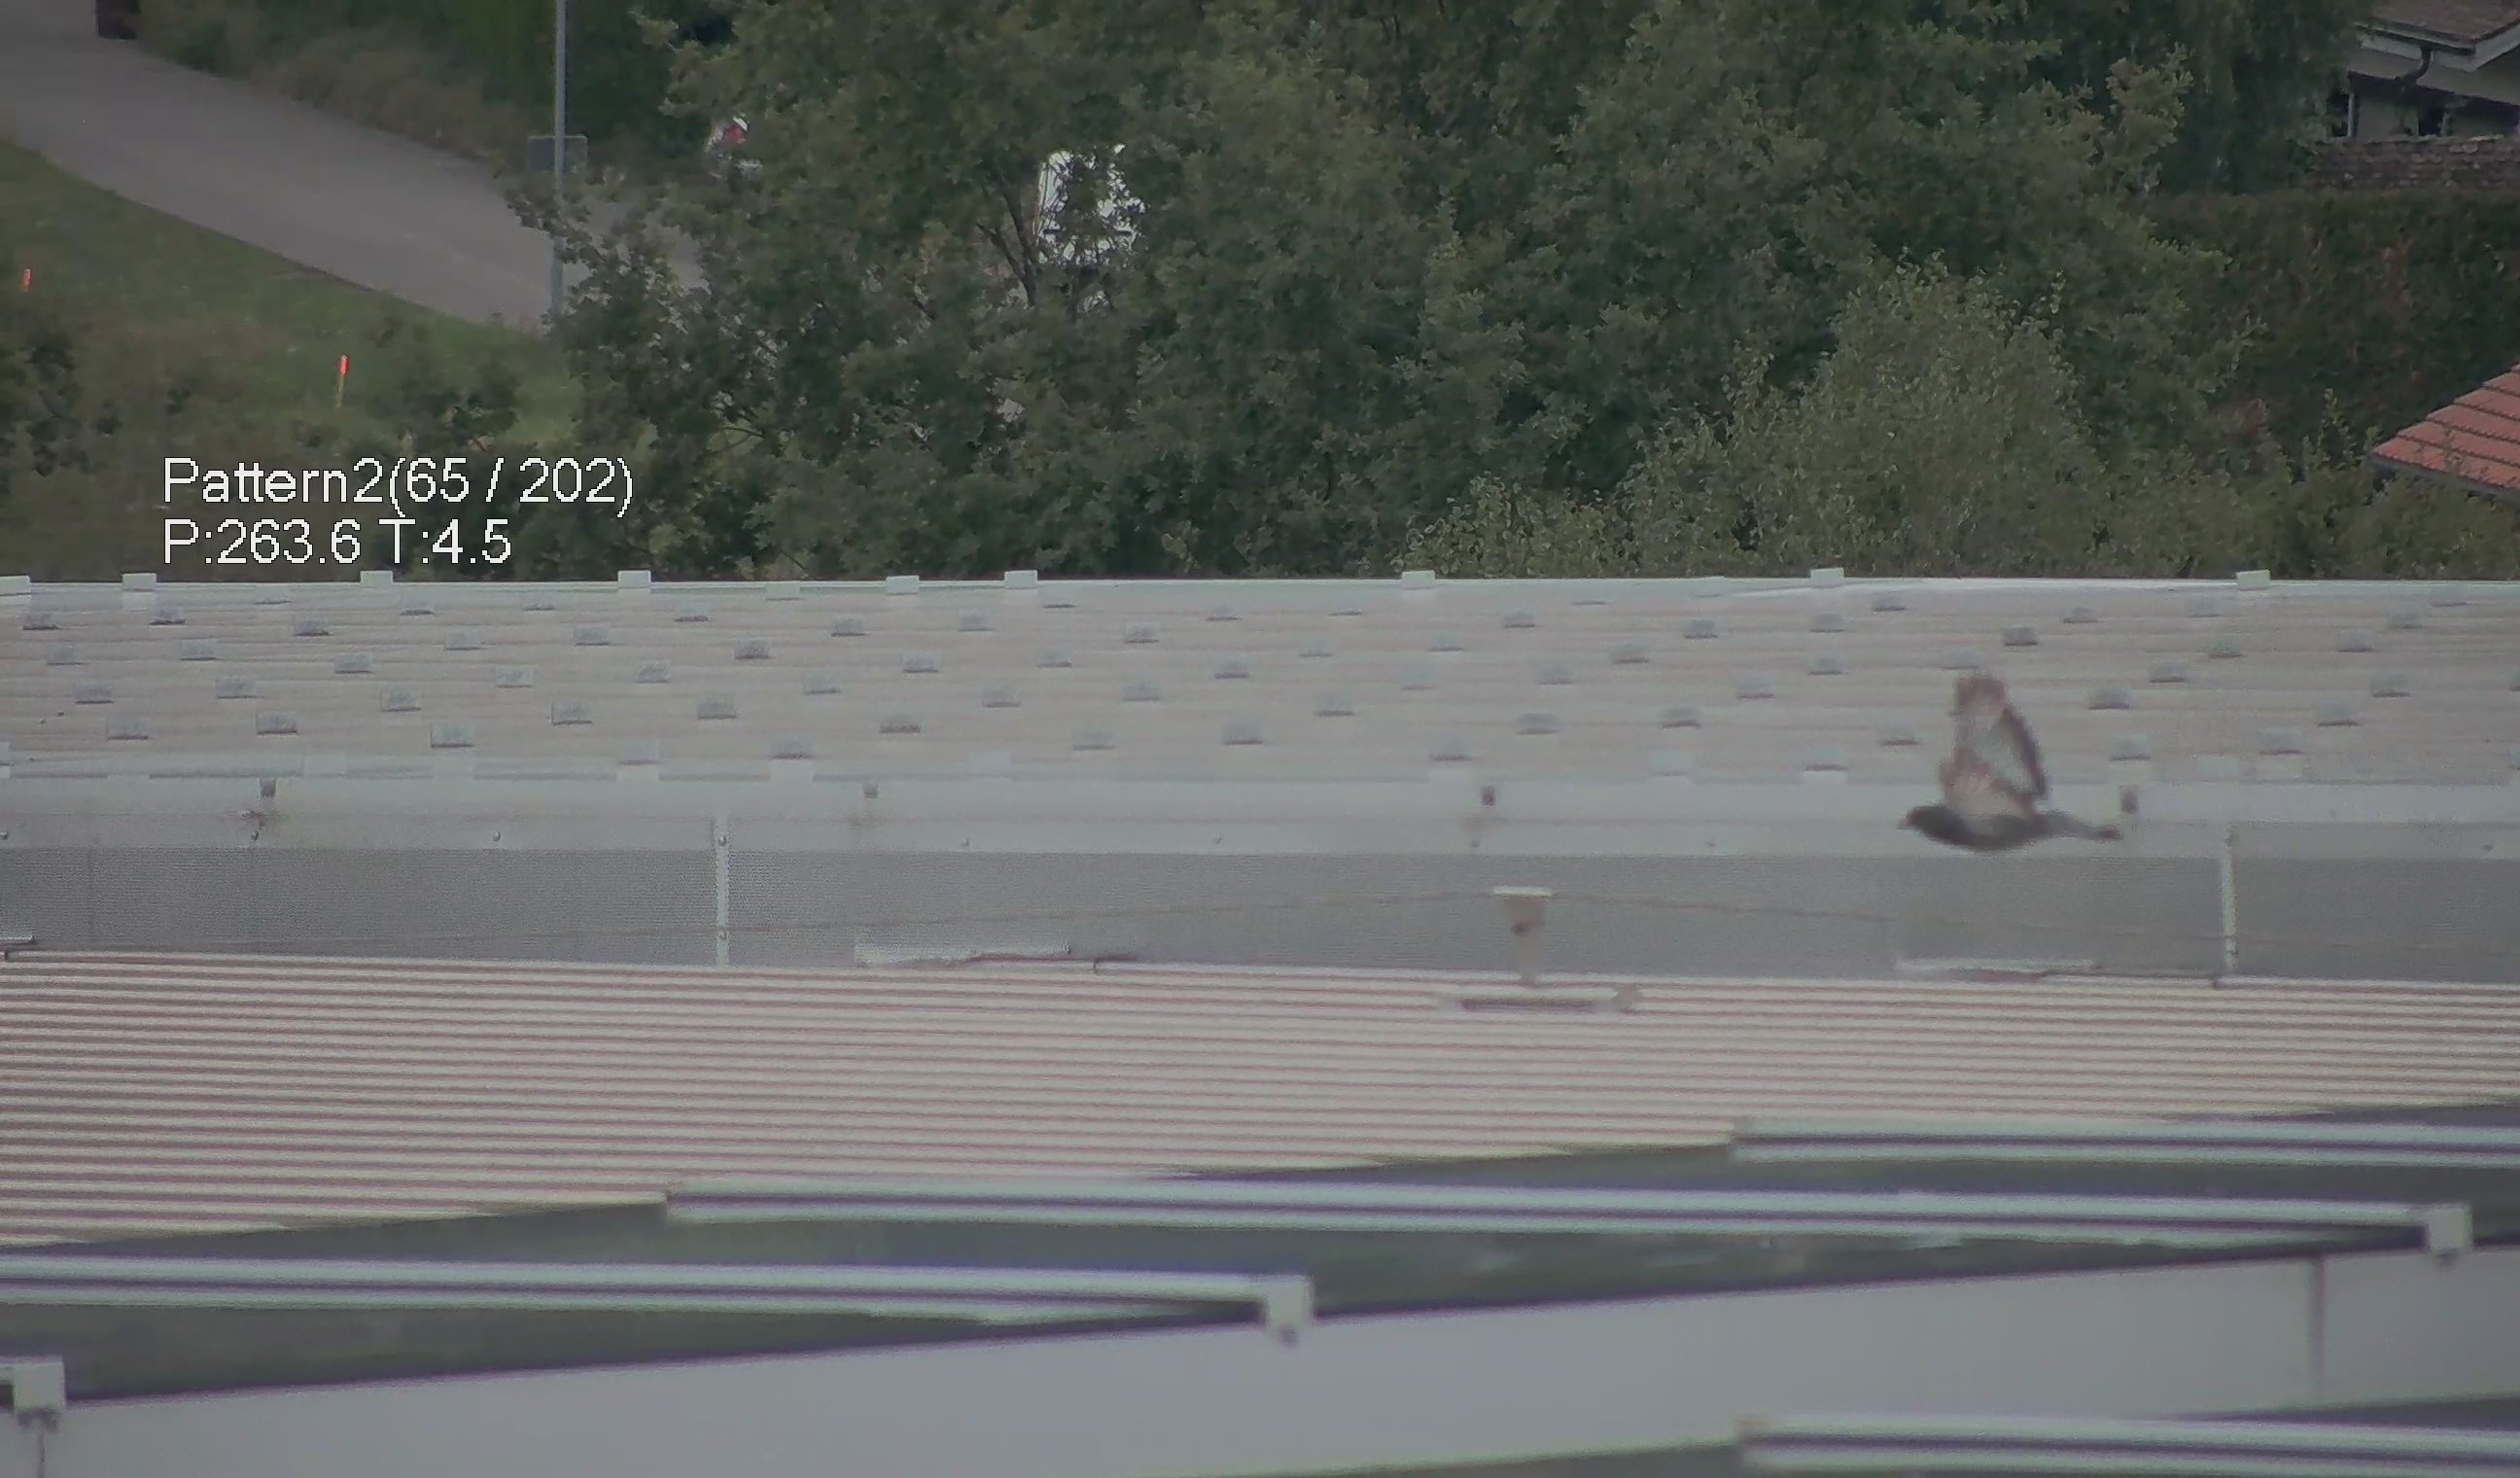Pigeon: (1896, 660, 2121, 871)
